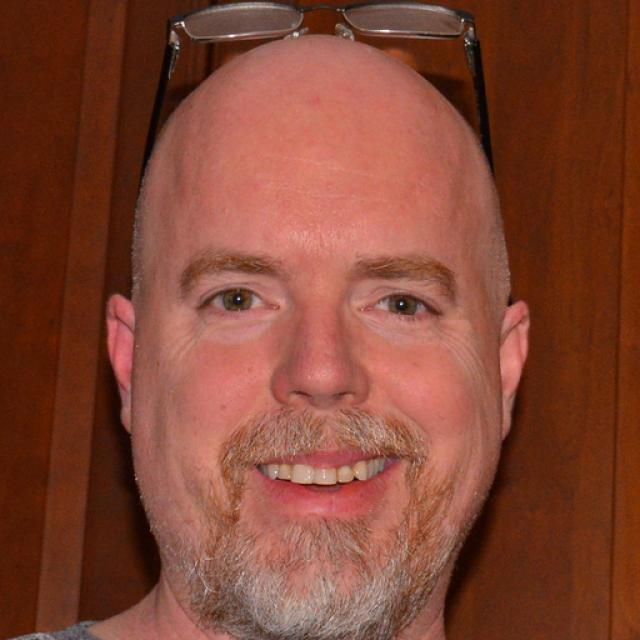happy: (132, 77, 504, 625)
